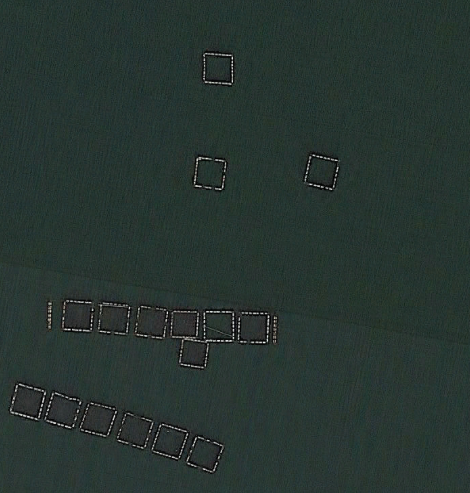square: (4, 376, 48, 428), (92, 290, 133, 343), (301, 148, 345, 196), (183, 431, 228, 477), (112, 410, 157, 454), (150, 419, 191, 463), (198, 47, 240, 89), (129, 301, 170, 344), (189, 153, 232, 193), (58, 296, 97, 339), (233, 307, 273, 347), (80, 398, 118, 440), (198, 306, 238, 344), (165, 306, 203, 343), (46, 389, 79, 431), (177, 335, 212, 373)
